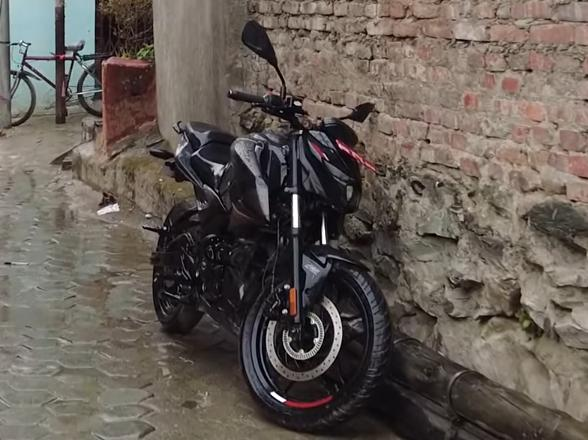bike: (148, 17, 401, 439)
